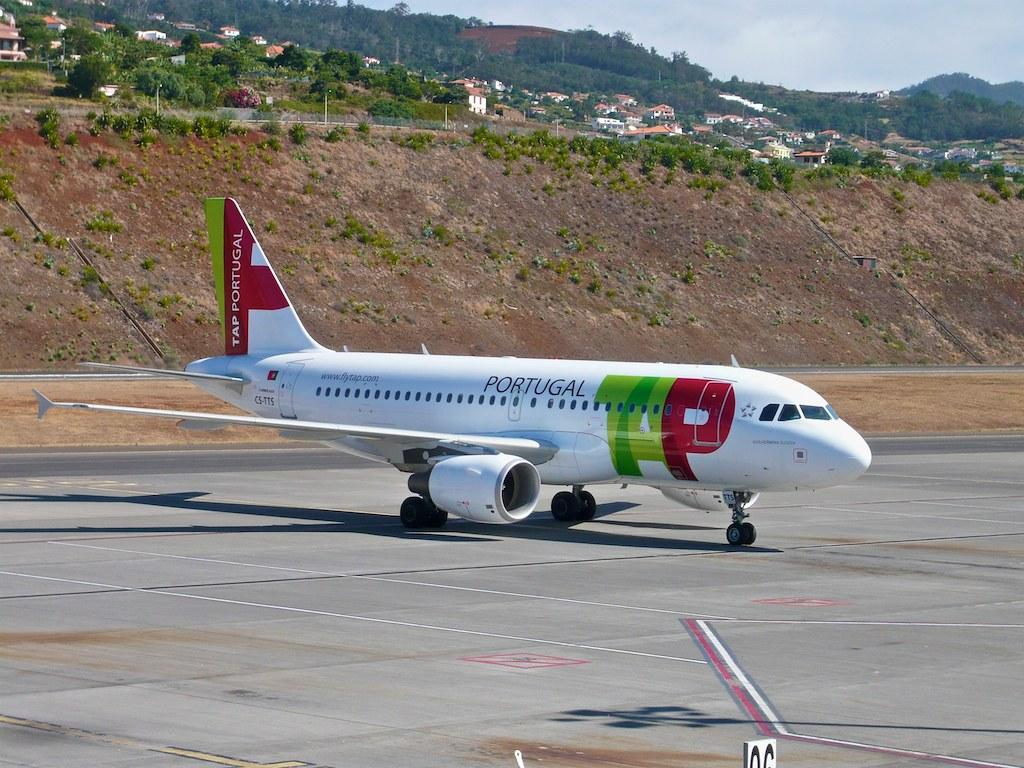plane: (29, 196, 873, 547)
